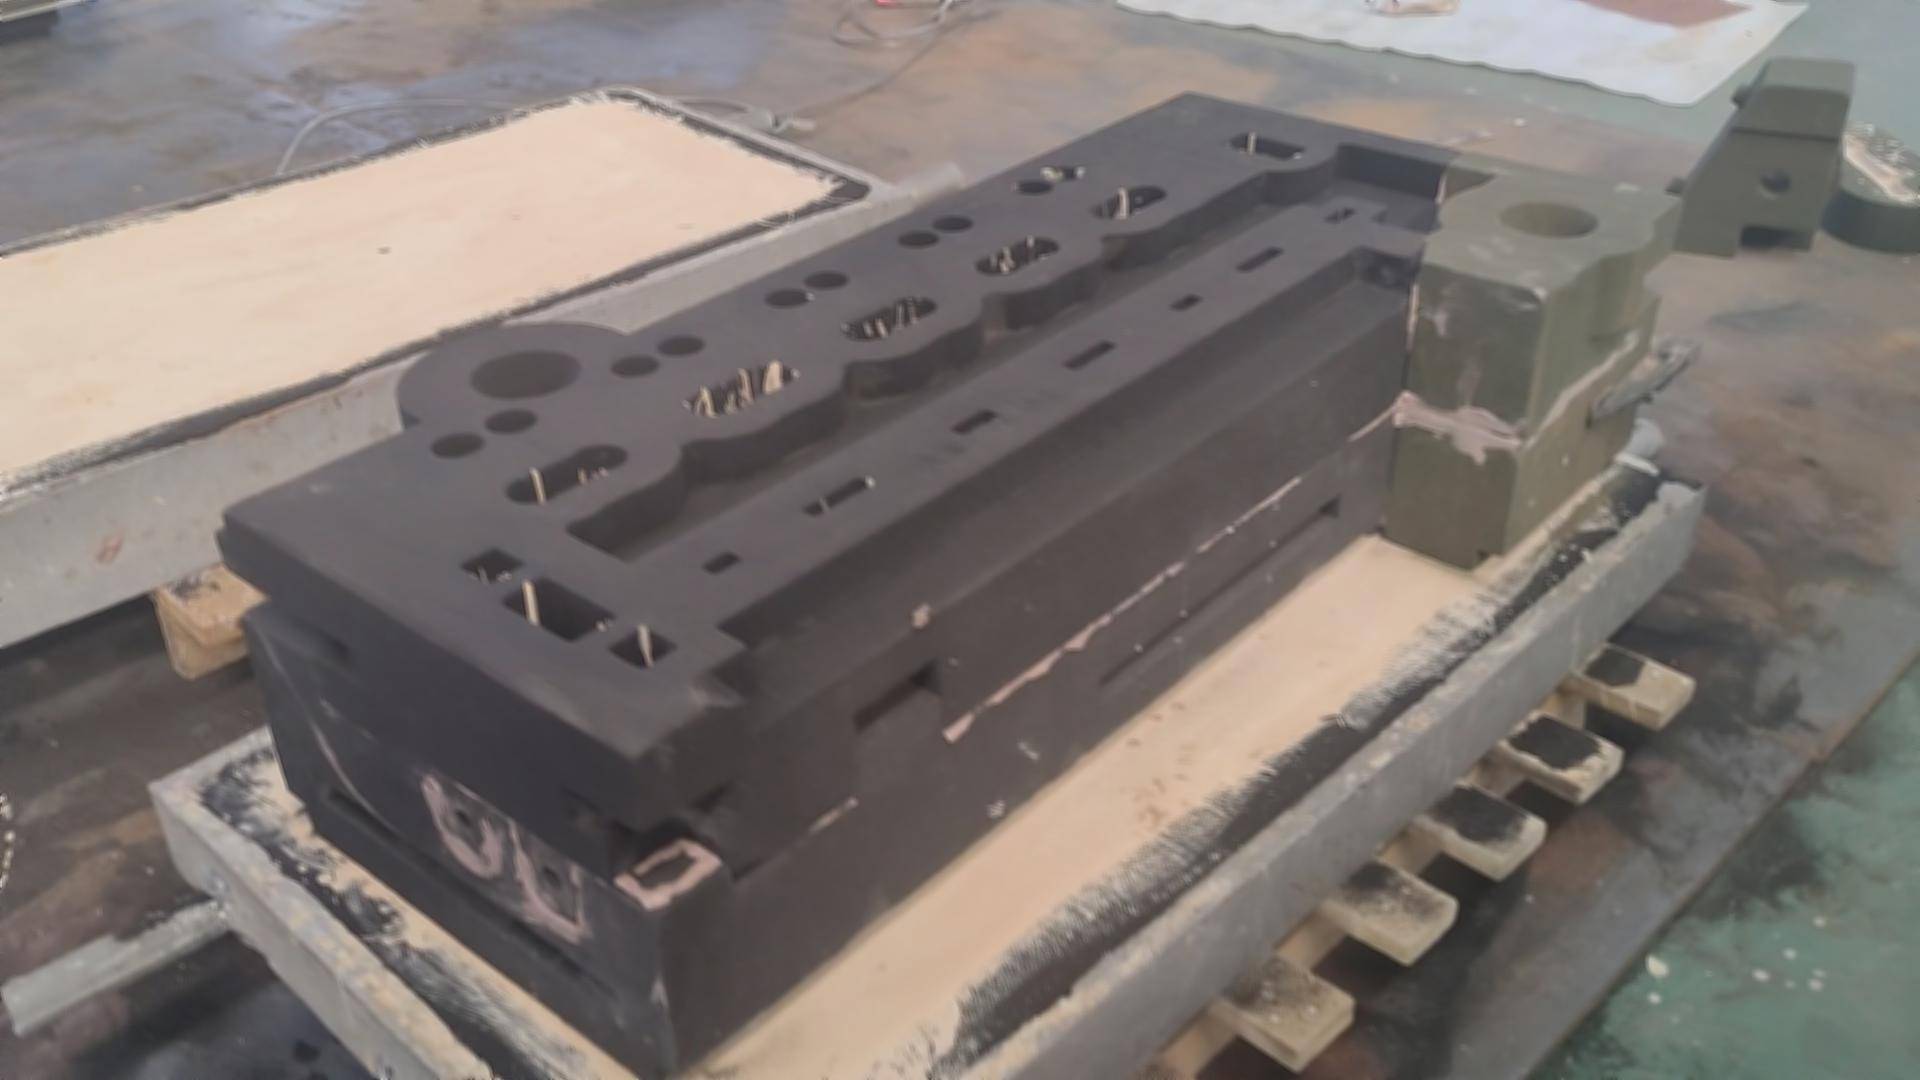pouring hole: (469, 348, 582, 400), (1499, 199, 1602, 239)
